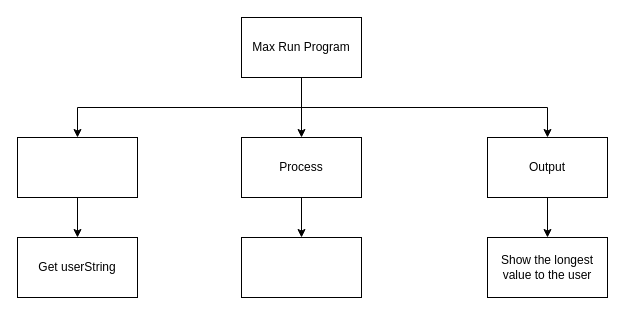
The diagram is 625 pixels wide and 315 high, and some of its shapes have lost their labels. The centre of each missing label's shape, as x and y in pixels:
Check to see which is the longest amount of the same value in a row: (x=301, y=267)
Input: (x=77, y=167)
